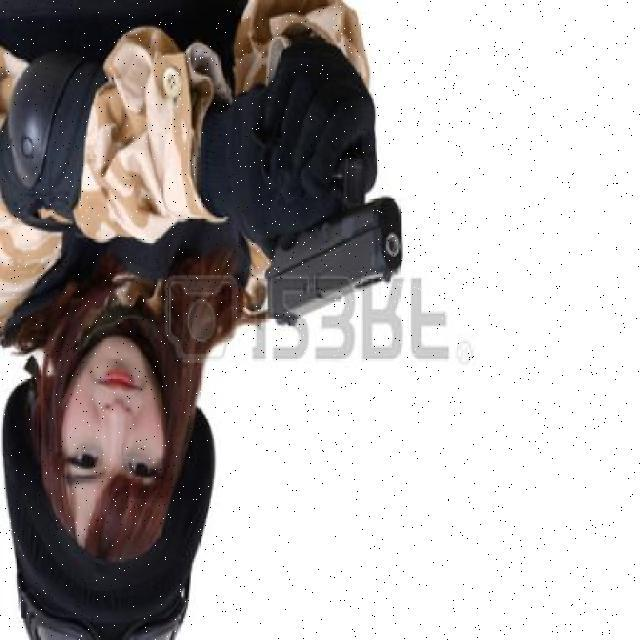gun: (253, 45, 414, 340)
